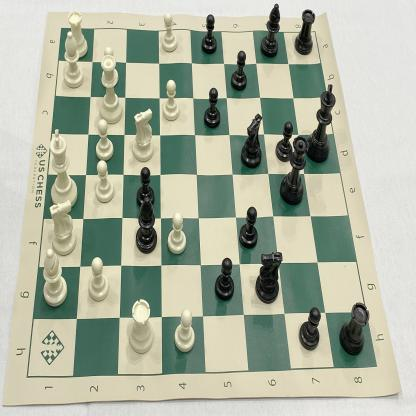bishop: (40, 248, 70, 307), (132, 195, 160, 256), (61, 32, 85, 90), (260, 0, 282, 60)
king: (47, 128, 78, 210), (307, 82, 337, 164)
knight: (48, 200, 80, 256), (254, 248, 282, 305), (240, 112, 264, 172), (132, 108, 156, 164)
pawn: (295, 305, 321, 353), (172, 308, 196, 358), (236, 203, 260, 252), (87, 256, 111, 304), (93, 157, 116, 205), (214, 254, 235, 302), (167, 209, 188, 257), (161, 77, 182, 123), (203, 85, 223, 132), (95, 118, 115, 164), (200, 12, 220, 56), (135, 166, 155, 210), (159, 10, 179, 54), (100, 45, 120, 87), (275, 120, 293, 166), (230, 48, 248, 94)
queen: (279, 136, 308, 212), (96, 54, 124, 126)
rook: (337, 300, 370, 356), (127, 296, 155, 357), (294, 7, 318, 57), (66, 9, 88, 59)
